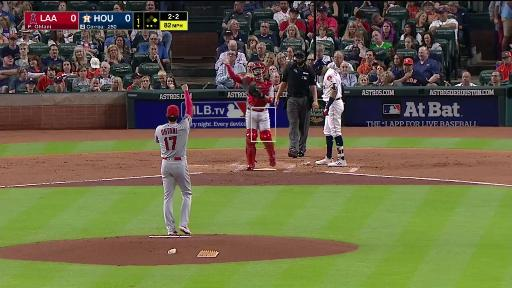pitcher: (155, 83, 194, 235)
